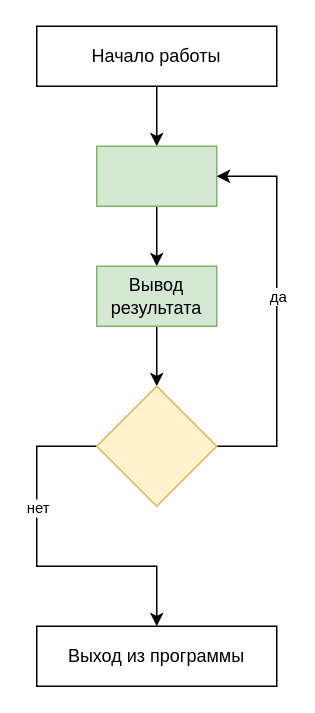
Some shapes in this 315 by 713 pixel diagram are drawn without their labels. The centre of each missing label's shape, as x and y in pixels:
Ввод данных: (156,175)
Запрос новых данных: (156,445)
